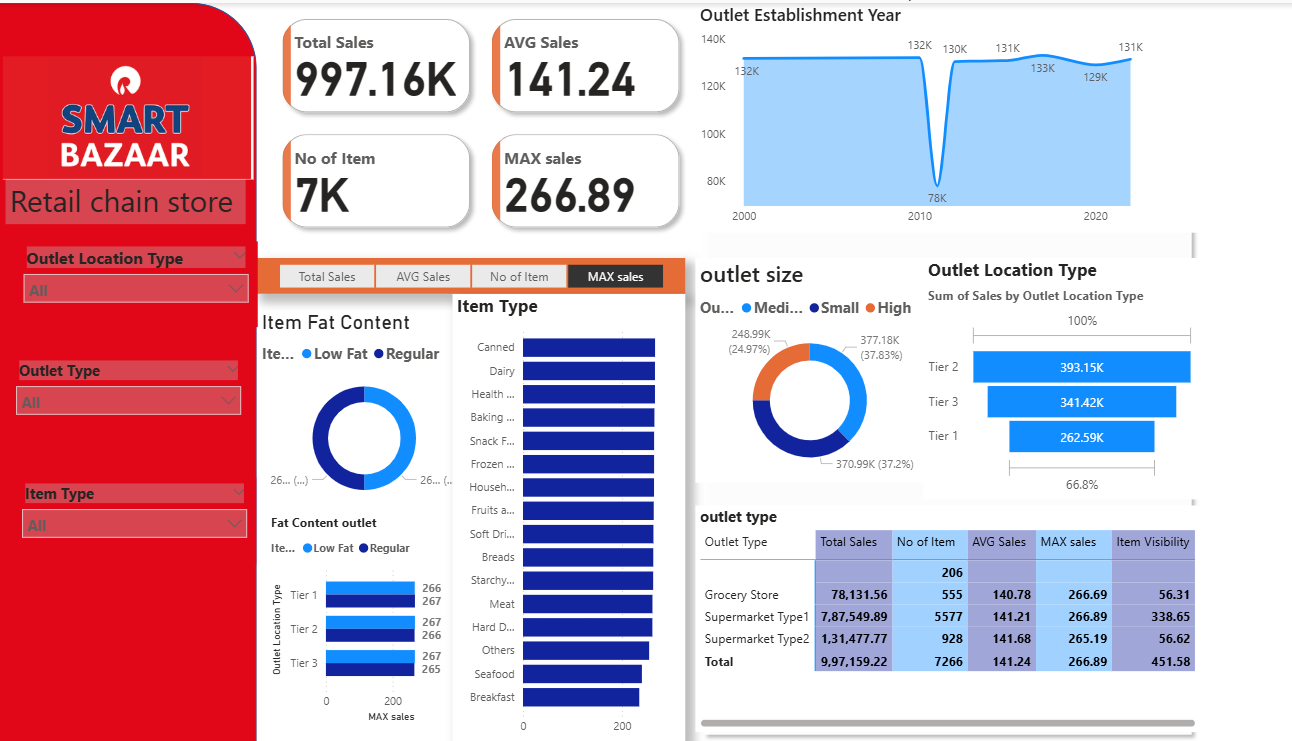

The page's visual inventory and layout, read from the dashboard file:
{"tool":"powerbi","page":{"name":"Page 1","canvas":[1400,800],"ordinal":0},"visuals":[{"type":"textbox","box":[0,40,280,120],"z":0},{"type":"shape","box":[0,0,280,800],"z":1000},{"type":"textbox","box":[290,25,280,150],"z":2000},{"type":"image","box":[0,25,280,150],"z":3000},{"type":"cardVisual","fields":{"Data":["Big Bazaar.Total Sales","Big Bazaar.AVG Sales","Big Bazaar.No of Item","Big Bazaar.MAX sales"]},"box":[290.7,0,464.4,261.4],"z":4000},{"type":"shape","box":[755.1,8.1,545.6,792.4],"z":5000},{"type":"slicer","fields":{"Values":["metrix.metrix"]},"box":[279.3,276.1,464.4,39],"z":6000},{"type":"donutChart","title":"Item Fat Content","fields":{"Y":["Big Bazaar.MAX sales"],"Category":["Big Bazaar.Item Fat Content"]},"box":[280.9,332.9,230.6,219.2],"z":7000},{"type":"clusteredBarChart","title":" Fat Content outlet","fields":{"Y":["Big Bazaar.MAX sales"],"Category":["Big Bazaar.Outlet Location Type"],"Series":["Big Bazaar.Item Fat Content"]},"box":[290.7,552.1,220.8,230.6],"z":8000},{"type":"clusteredBarChart","title":" Item Type","fields":{"Y":["Big Bazaar.MAX sales"],"Category":["Big Bazaar.Item Type"]},"box":[492,315,251.7,485.5],"z":9000},{"type":"lineChart","title":" Outlet Establishment Year","fields":{"Y":["Sum(Big Bazaar.Sales)"],"Category":["Big Bazaar.Outlet Establishment Year"]},"box":[755.1,0,545.6,248.4],"z":10000},{"type":"donutChart","title":"outlet size","fields":{"Y":["Big Bazaar.Total Sales"],"Category":["Big Bazaar.Outlet Size"]},"box":[755.1,276.1,246.8,243.6],"z":11000},{"type":"funnel","title":"Outlet Location Type","fields":{"Y":["Sum(Big Bazaar.Sales)"],"Category":["Big Bazaar.Outlet Location Type"]},"box":[1001.9,276.1,298.8,261.4],"z":12000},{"type":"pivotTable","title":"outlet type ","fields":{"Rows":["Big Bazaar.Outlet Type"],"Values":["Big Bazaar.Total Sales","Big Bazaar.No of Item","Big Bazaar.AVG Sales","Big Bazaar.MAX sales","Sum(Big Bazaar.Item Visibility)"]},"box":[755.1,544,545.6,245.2],"z":13000},{"type":"slicer","fields":{"Values":["Big Bazaar.Outlet Location Type"]},"box":[8.3,183.8,263.3,92.7],"z":14000},{"type":"slicer","fields":{"Values":["Big Bazaar.Outlet Type"]},"box":[9.9,332.9,263.3,92.7],"z":15000},{"type":"slicer","fields":{"Values":["Big Bazaar.Outlet Location Type"]},"box":[18.3,193.8,263.3,92.7],"z":16000},{"type":"slicer","fields":{"Values":["Big Bazaar.Item Type"]},"box":[16.2,474.2,263.1,92.6],"z":17000},{"type":"textbox","box":[8,146,261,52],"z":17001}]}

Visuals, with their boxes in screenshot pixels (x1, y1, x2, y2), scaled from the page's 1400x800 canvas onto the 1292x741 screenshot:
textbox: left=0, top=37, right=258, bottom=148
shape: left=0, top=0, right=258, bottom=740
textbox: left=268, top=23, right=526, bottom=162
image: left=0, top=23, right=258, bottom=162
cardVisual - Big Bazaar.Total Sales x Big Bazaar.AVG Sales: left=268, top=0, right=697, bottom=242
shape: left=697, top=8, right=1200, bottom=740
slicer - metrix.metrix: left=258, top=256, right=686, bottom=292
"Item Fat Content" donutChart: left=259, top=308, right=472, bottom=511
" Fat Content outlet" clusteredBarChart: left=268, top=511, right=472, bottom=725
" Item Type" clusteredBarChart: left=454, top=292, right=686, bottom=740
" Outlet Establishment Year" lineChart: left=697, top=0, right=1200, bottom=230
"outlet size" donutChart: left=697, top=256, right=925, bottom=481
"Outlet Location Type" funnel: left=925, top=256, right=1200, bottom=498
"outlet type " pivotTable: left=697, top=504, right=1200, bottom=731
slicer - Big Bazaar.Outlet Location Type: left=8, top=170, right=251, bottom=256
slicer - Big Bazaar.Outlet Type: left=9, top=308, right=252, bottom=394
slicer - Big Bazaar.Outlet Location Type: left=17, top=180, right=260, bottom=265
slicer - Big Bazaar.Item Type: left=15, top=439, right=258, bottom=525
textbox: left=7, top=135, right=248, bottom=183
